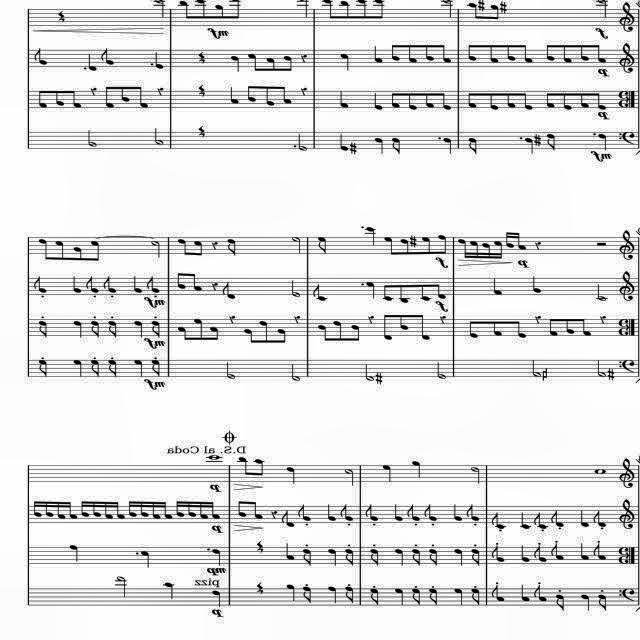Bass-clef: (616, 456, 636, 492), (616, 1, 638, 32), (618, 42, 638, 74), (618, 498, 638, 526), (619, 228, 635, 262), (618, 271, 634, 303)
Diez: (606, 367, 620, 383), (374, 369, 386, 386), (348, 141, 360, 155), (534, 132, 542, 148)
Eighth-note: (418, 312, 436, 344), (332, 315, 350, 345), (311, 283, 334, 305), (191, 314, 209, 342), (136, 85, 156, 109), (382, 312, 396, 344), (260, 318, 276, 346), (590, 509, 614, 527), (520, 91, 540, 112), (102, 84, 118, 110), (466, 320, 486, 340), (314, 232, 331, 255), (54, 238, 70, 262), (36, 238, 52, 262), (97, 46, 115, 66), (221, 282, 239, 302), (104, 274, 122, 294), (492, 318, 510, 338), (592, 544, 610, 564), (488, 546, 506, 566), (486, 43, 502, 65), (468, 42, 484, 64), (406, 43, 422, 65), (320, 0, 336, 22), (314, 323, 330, 345), (264, 84, 278, 108), (546, 317, 562, 338), (33, 46, 51, 64), (241, 327, 259, 345), (550, 510, 568, 528), (491, 511, 509, 529), (339, 503, 357, 521), (297, 503, 315, 521), (594, 44, 610, 64), (562, 44, 578, 64), (422, 44, 438, 64), (245, 84, 261, 104), (146, 276, 162, 296), (85, 274, 101, 294), (580, 317, 596, 337), (422, 503, 438, 523), (280, 509, 296, 529), (532, 545, 548, 565), (366, 548, 382, 568), (532, 584, 548, 604), (355, 0, 369, 22), (247, 51, 261, 73), (398, 281, 412, 303), (398, 309, 412, 331), (178, 1, 194, 20), (406, 92, 422, 111), (466, 503, 482, 522), (364, 503, 380, 522), (194, 0, 209, 20), (72, 88, 86, 109), (516, 317, 530, 338), (151, 317, 165, 338), (560, 92, 576, 110), (72, 240, 84, 264), (33, 275, 49, 293), (406, 504, 422, 522), (234, 502, 250, 520), (550, 543, 566, 561), (490, 585, 506, 603), (521, 44, 535, 64), (213, 2, 227, 22), (420, 236, 434, 256), (189, 272, 203, 292), (565, 316, 579, 336), (348, 323, 362, 343), (301, 548, 315, 568), (408, 588, 422, 608), (595, 92, 609, 111), (281, 86, 295, 105), (226, 236, 238, 258), (194, 237, 206, 259), (178, 236, 190, 258), (90, 240, 102, 262), (544, 44, 560, 60), (264, 58, 280, 74), (466, 92, 482, 108), (424, 92, 440, 108), (424, 550, 440, 566), (504, 44, 518, 62), (281, 54, 295, 72), (227, 0, 241, 18), (546, 90, 560, 108), (505, 92, 519, 110), (488, 92, 502, 110), (118, 85, 132, 103), (39, 90, 53, 108), (534, 511, 548, 529), (595, 595, 609, 613), (342, 0, 353, 22), (580, 42, 592, 62), (56, 88, 68, 108), (546, 132, 558, 152), (176, 272, 188, 292), (252, 501, 264, 521), (252, 458, 264, 478), (236, 455, 248, 475), (470, 548, 482, 568), (410, 548, 422, 568), (368, 588, 380, 608), (149, 359, 163, 376), (466, 136, 479, 154), (579, 92, 593, 108), (390, 92, 404, 108), (276, 328, 290, 344), (176, 326, 190, 342), (437, 234, 448, 254), (384, 236, 394, 258), (345, 585, 355, 607), (374, 0, 386, 18), (440, 93, 452, 111), (420, 283, 432, 301), (106, 321, 118, 339), (90, 321, 102, 339), (36, 321, 48, 339), (300, 587, 312, 605), (442, 44, 452, 64), (399, 238, 409, 258), (392, 44, 403, 62), (382, 284, 393, 302), (390, 137, 402, 153), (436, 284, 448, 300), (208, 326, 220, 342), (346, 546, 354, 570), (554, 594, 566, 610), (490, 3, 500, 21), (467, 2, 477, 20), (89, 359, 99, 377), (468, 590, 479, 606), (107, 359, 117, 376), (428, 589, 437, 605), (38, 359, 46, 376)
Eighth-rest: (531, 314, 545, 326), (223, 314, 237, 326), (210, 280, 220, 292), (534, 241, 544, 251), (210, 241, 220, 251), (599, 315, 609, 325), (158, 86, 166, 98), (290, 314, 302, 322), (89, 86, 99, 95), (438, 314, 448, 322), (367, 314, 377, 322), (300, 86, 308, 95), (270, 510, 278, 518)
Full-note: (593, 468, 607, 476), (206, 455, 222, 461)
Half-note: (220, 360, 242, 386), (593, 282, 611, 302), (287, 236, 303, 258), (434, 360, 450, 382), (289, 363, 305, 385), (112, 575, 128, 597), (592, 361, 608, 379), (596, 1, 610, 20), (154, 0, 168, 18), (440, 0, 454, 18), (86, 128, 100, 146), (296, 0, 311, 16), (297, 132, 309, 152), (342, 466, 354, 486), (152, 240, 164, 258), (530, 359, 542, 377), (362, 363, 374, 381), (471, 465, 482, 483), (154, 130, 166, 146), (290, 282, 302, 298)
Quarter-note: (336, 50, 356, 72), (376, 463, 396, 485), (281, 541, 299, 565), (281, 466, 301, 486), (514, 542, 530, 566), (448, 502, 464, 524), (448, 547, 464, 569), (450, 585, 466, 607), (160, 579, 176, 601), (489, 278, 506, 298), (365, 224, 379, 248), (370, 44, 386, 64), (130, 358, 146, 378), (408, 458, 424, 478), (516, 584, 532, 604), (324, 584, 340, 604), (282, 584, 298, 604), (66, 544, 82, 564), (574, 508, 590, 528), (365, 280, 379, 300), (71, 276, 85, 296), (133, 319, 147, 339), (70, 320, 84, 340), (69, 358, 83, 378), (518, 512, 532, 532), (325, 546, 339, 566), (139, 548, 153, 568), (338, 88, 350, 110), (578, 541, 590, 563), (228, 54, 242, 72), (153, 50, 165, 70), (374, 136, 386, 156), (131, 276, 143, 296), (392, 586, 404, 606), (208, 588, 220, 608), (392, 548, 406, 564), (373, 90, 383, 112), (393, 501, 403, 523), (325, 503, 335, 525), (580, 594, 592, 612), (87, 52, 97, 72), (212, 547, 222, 567), (338, 134, 349, 152), (531, 276, 541, 294), (442, 136, 453, 152), (524, 138, 534, 154), (598, 134, 608, 150), (230, 86, 238, 104)
Quarter-rest: (251, 580, 269, 596), (194, 50, 208, 66), (252, 538, 266, 554), (198, 83, 210, 97), (198, 126, 208, 138), (58, 10, 66, 22)
Sixteenth-note: (31, 498, 45, 520), (516, 232, 530, 252), (210, 502, 224, 522), (115, 501, 128, 522), (138, 500, 150, 520), (54, 501, 66, 521), (80, 499, 92, 518), (492, 240, 503, 260), (457, 238, 468, 258), (151, 499, 161, 521), (174, 500, 186, 518), (44, 499, 56, 517), (128, 498, 138, 518), (104, 500, 114, 520), (91, 499, 102, 517), (198, 502, 210, 518), (162, 502, 174, 518), (66, 502, 78, 518), (469, 241, 479, 259), (186, 500, 196, 518), (506, 230, 514, 250), (481, 242, 491, 258)
